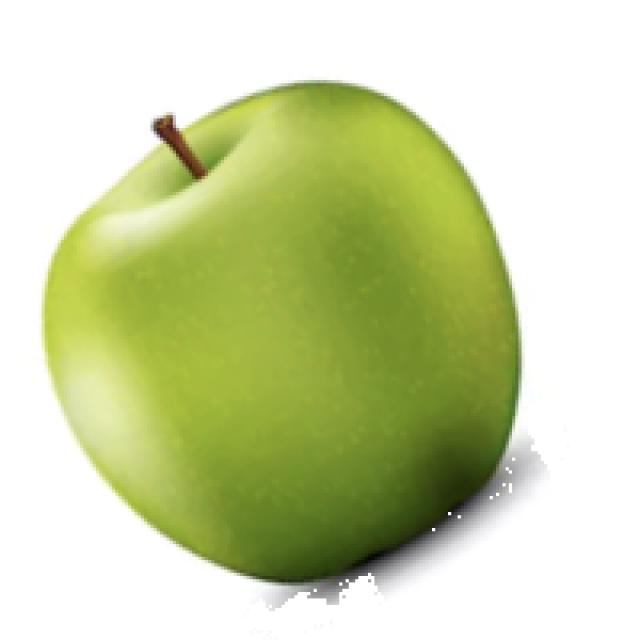apple: (35, 74, 550, 611)
